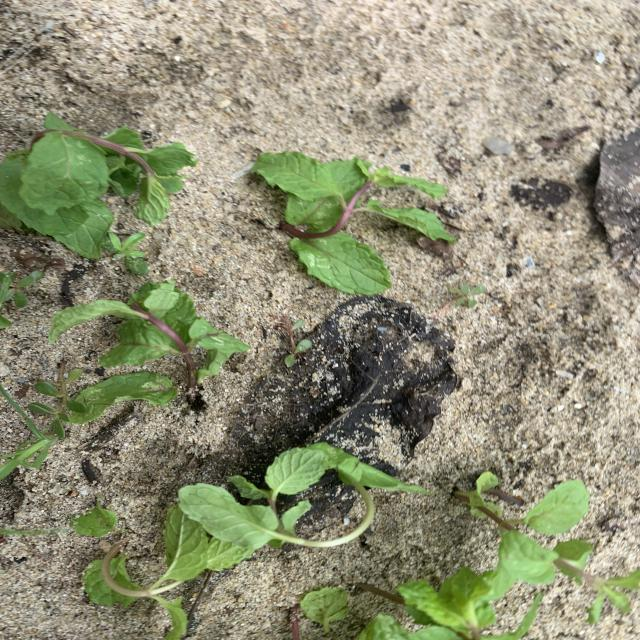crop: (93, 442, 404, 636), (252, 152, 454, 294), (178, 442, 404, 568), (1, 114, 195, 257), (50, 280, 247, 420), (454, 472, 637, 622), (356, 562, 539, 640), (300, 587, 349, 631)
weed: (29, 361, 88, 435), (270, 316, 311, 365), (105, 233, 147, 275), (1, 270, 43, 307), (449, 285, 484, 307)
